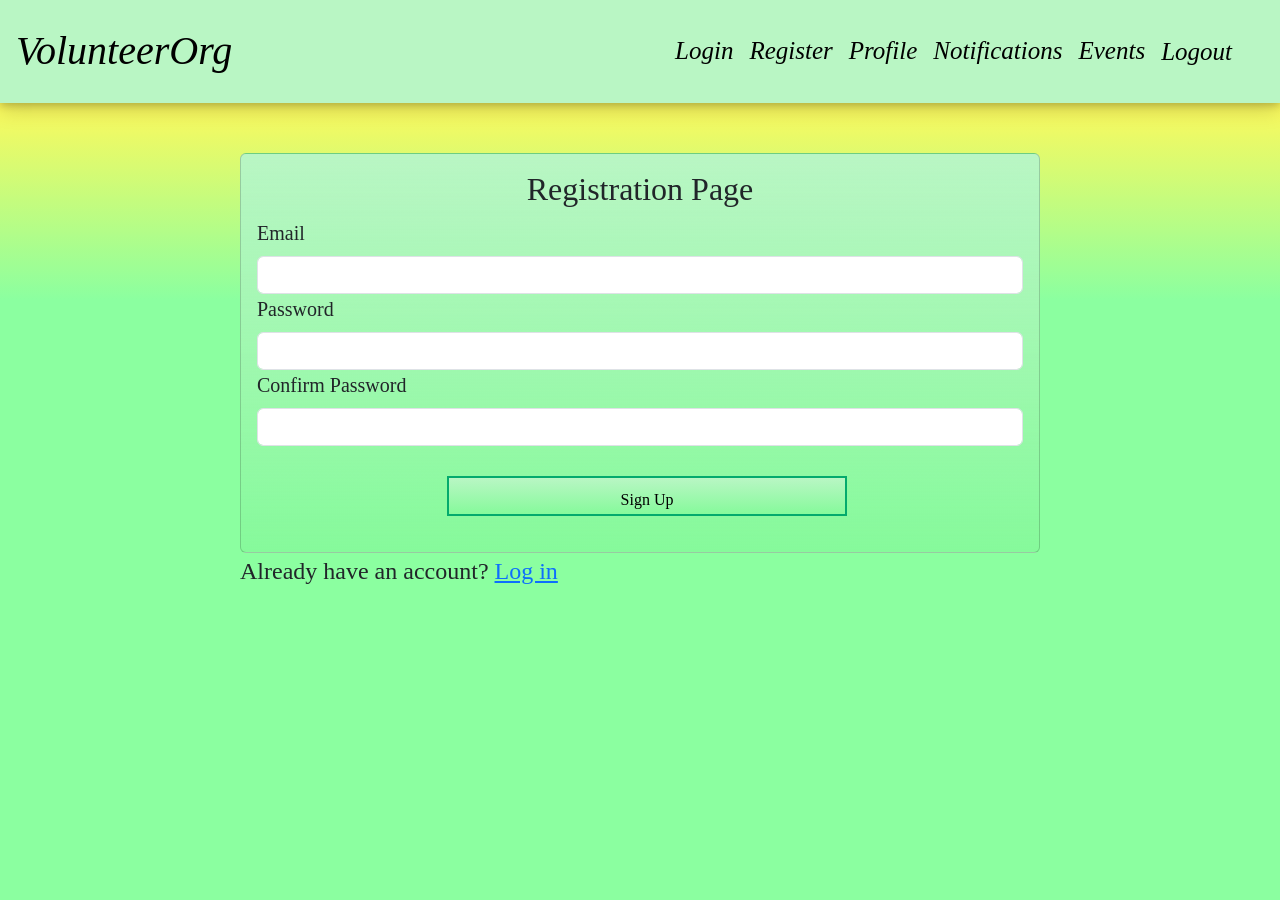
Test: Signup Page Tests › handles registration failure
Type "test@example.com" into the field labelled "Email". click: (640, 275)
box: [257, 256, 1023, 294]
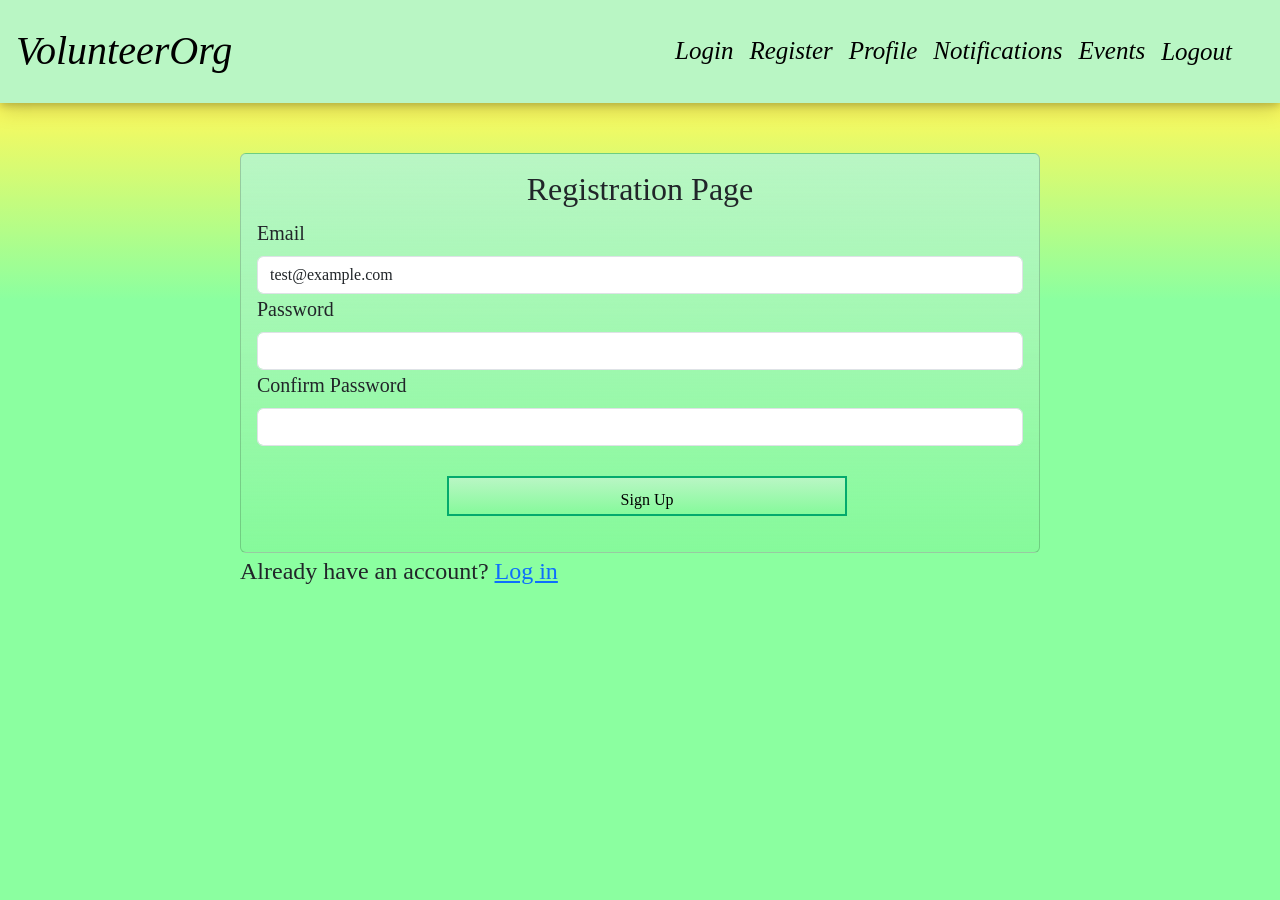
Type "password123" into the password field labelled "Password". click: (640, 351)
box: [257, 332, 1023, 370]
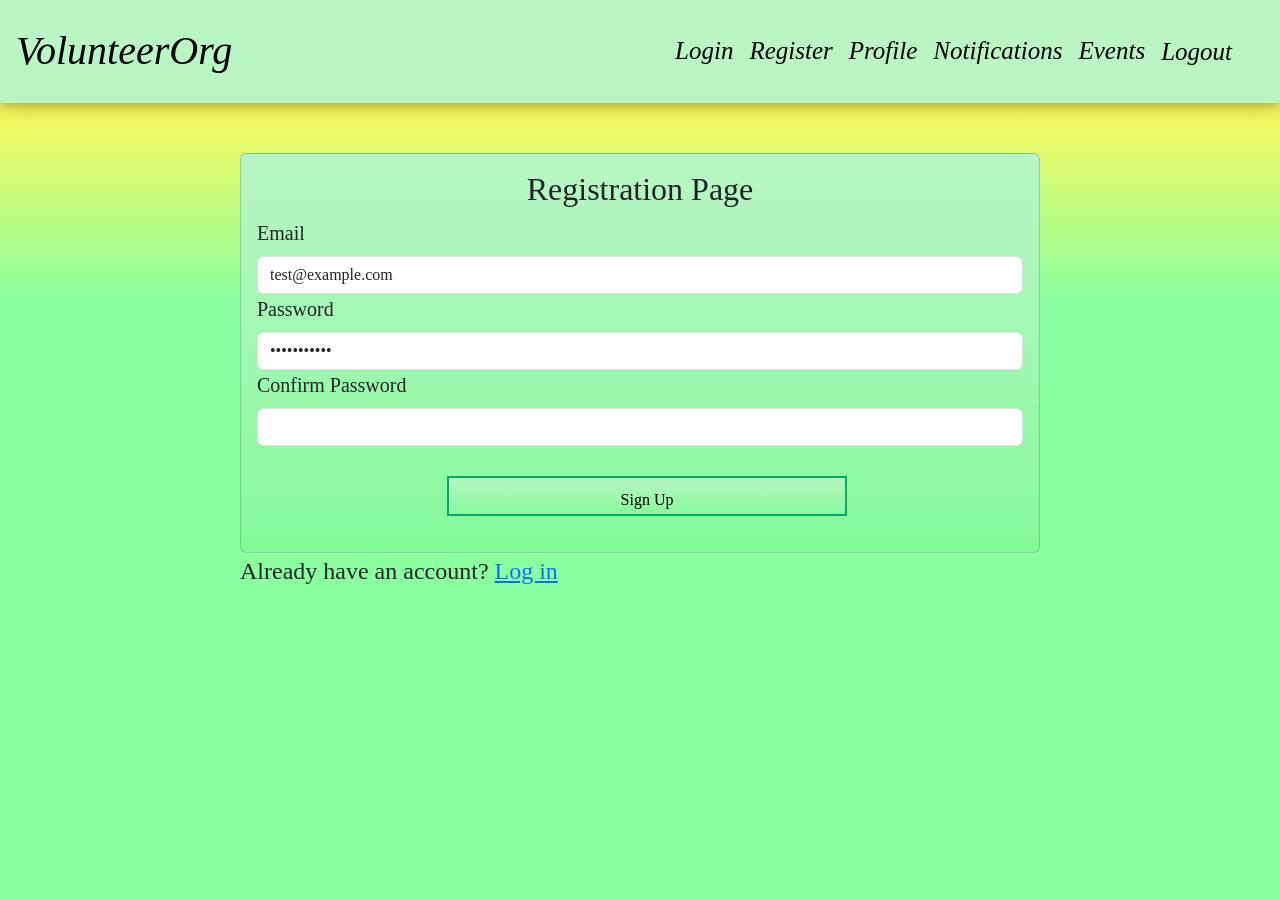
Type "password123" into the password field labelled "Confirm Password". click: (640, 427)
box: [257, 408, 1023, 446]
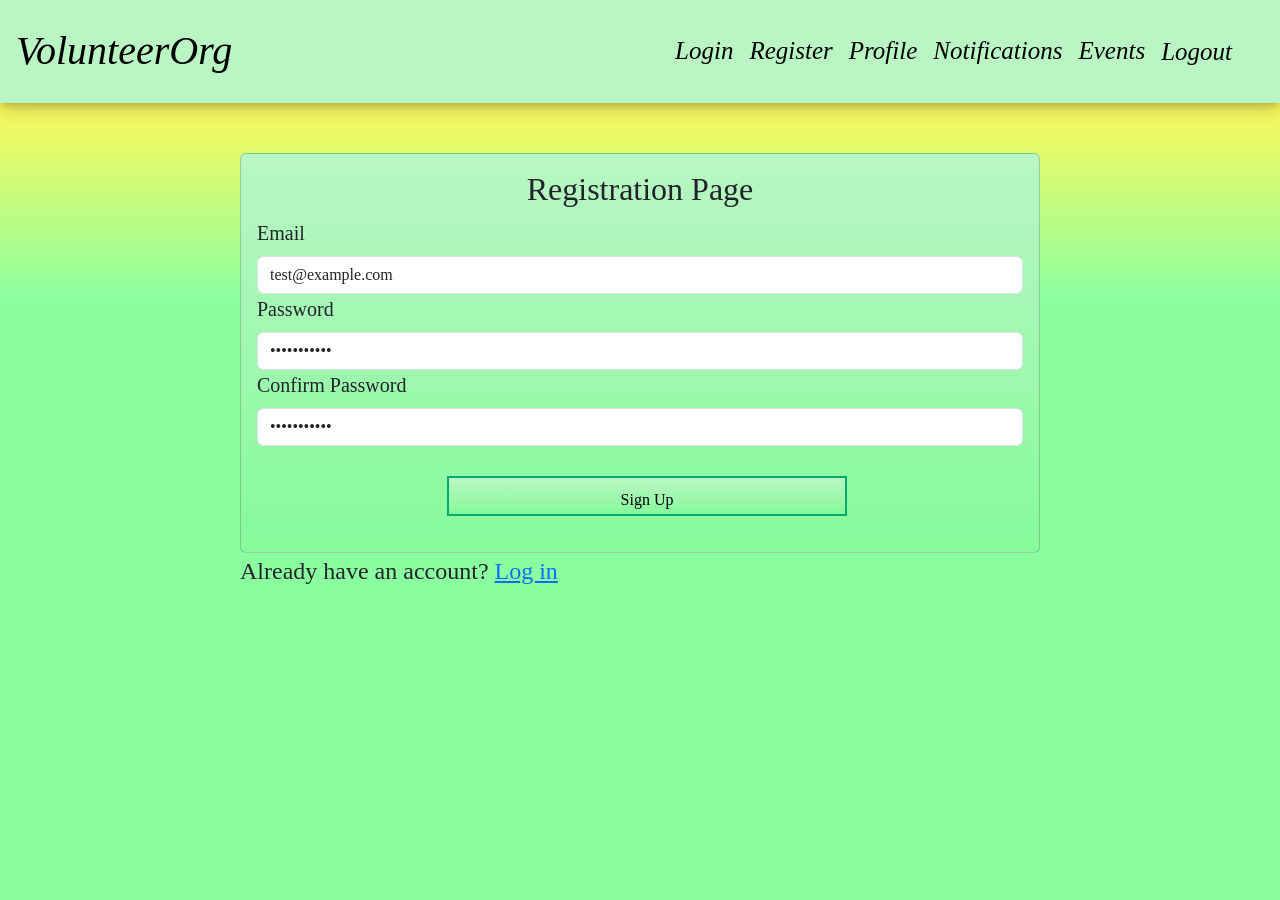
Click the button "Sign Up". click: (647, 496)
box: [447, 476, 847, 516]
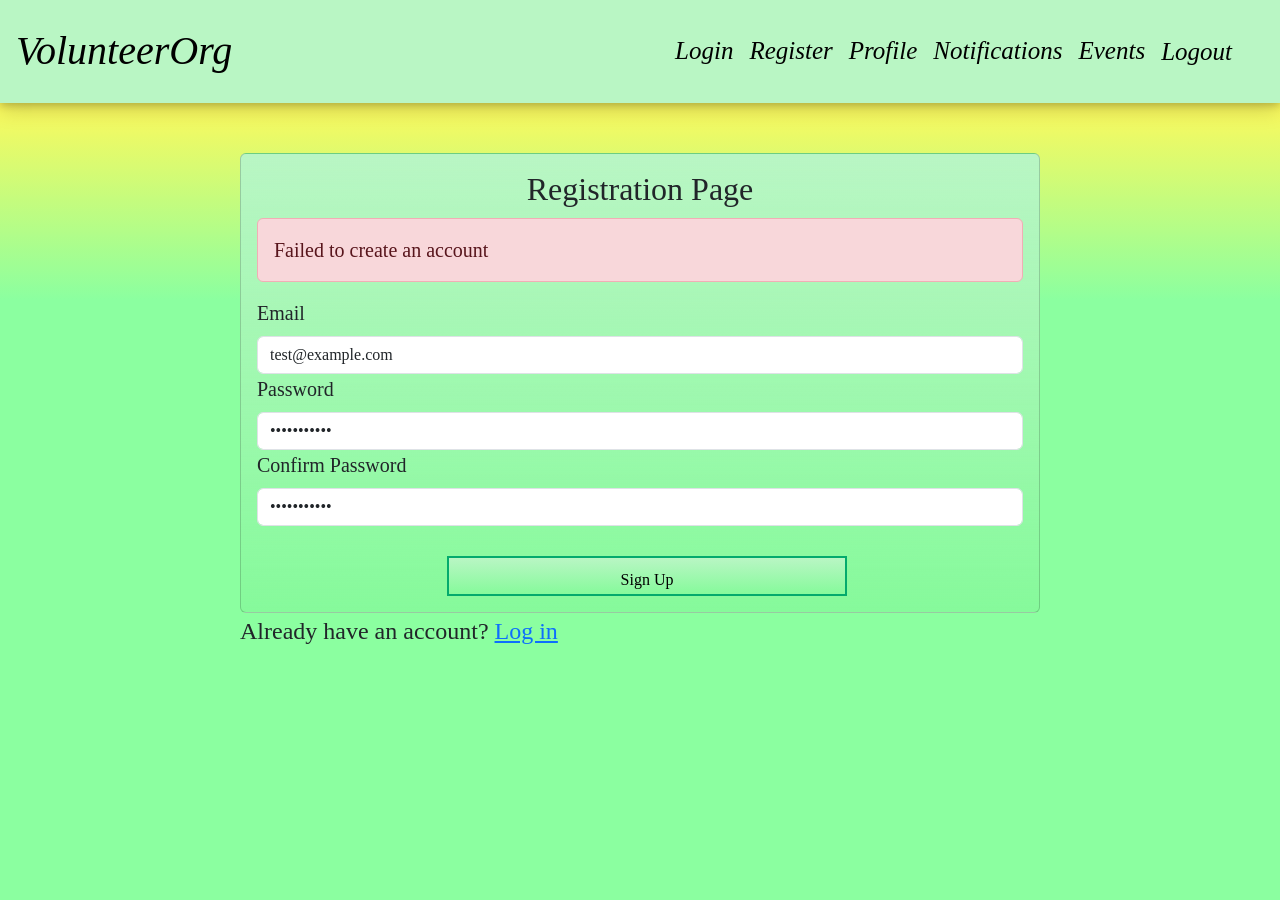
Check: the text "Failed to create an account" is shown, box [257, 218, 1023, 282]
